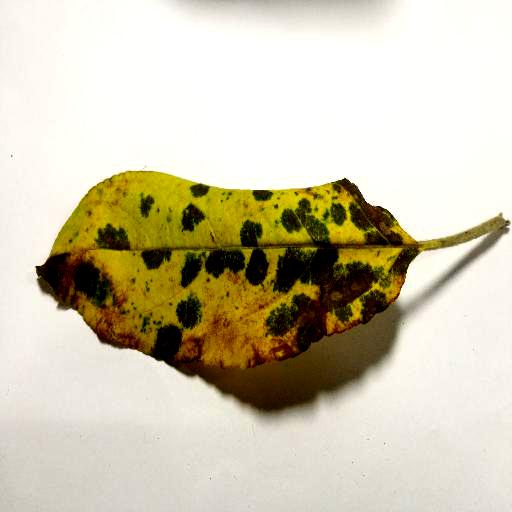Brown_Spot: (254, 255, 410, 345), (320, 167, 420, 251), (29, 250, 137, 327)
